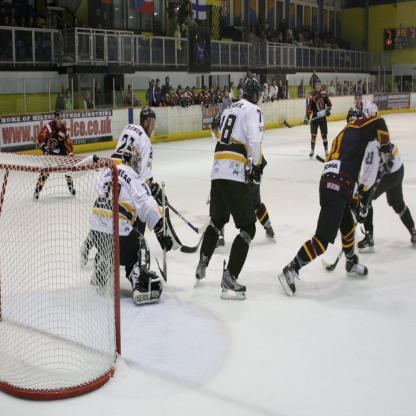Helmet: (242, 76, 264, 104), (121, 143, 141, 173), (139, 107, 156, 136), (345, 106, 366, 124), (211, 112, 223, 141), (352, 91, 362, 109), (54, 109, 62, 128), (314, 79, 320, 90)
